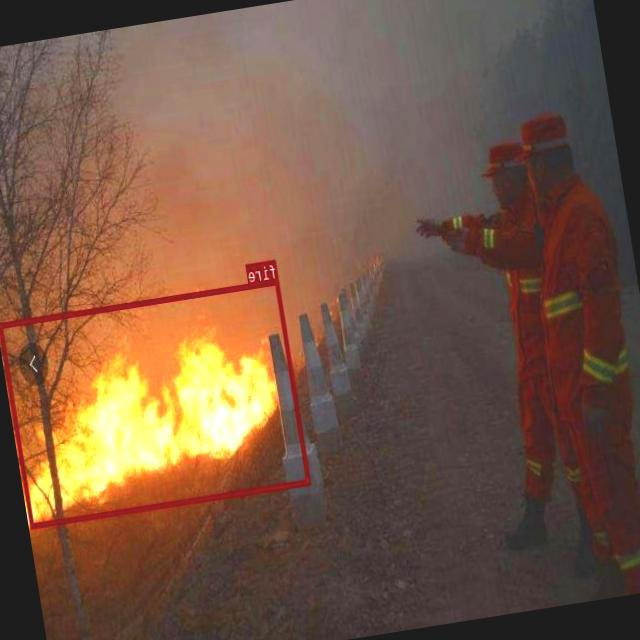fire: (0, 278, 311, 528)
